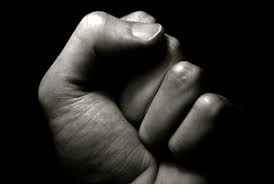fist: (65, 18, 221, 177)
